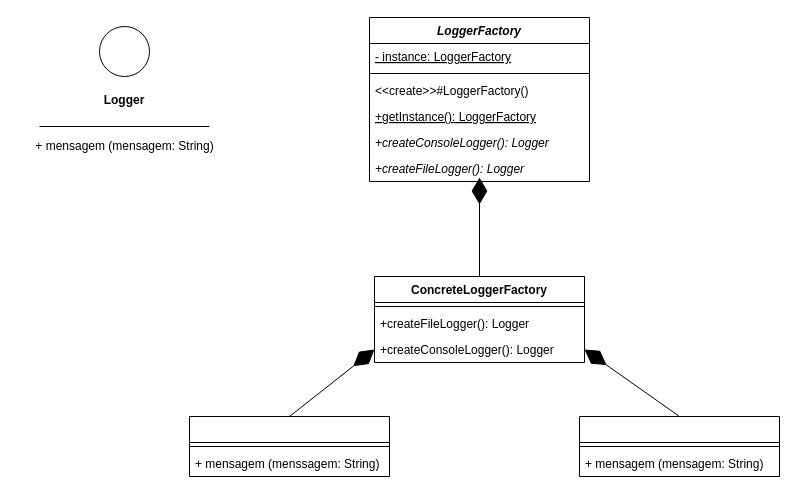
Some shapes in this 797 by 497 pixel diagram are drawn without their labels. The shapes that lost their labels are listed below. From the top down, each one's box as (x1, y1, x2, y2) in pixels, then its label:
(188, 416, 390, 476): FileLogger
(578, 416, 780, 476): ConsoleLogger
